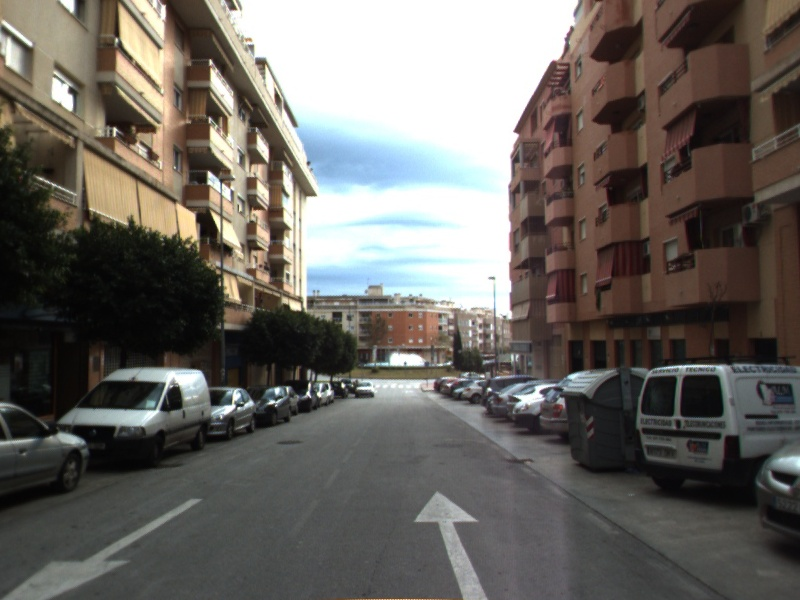STRAIGHT: (410, 487, 495, 600)
